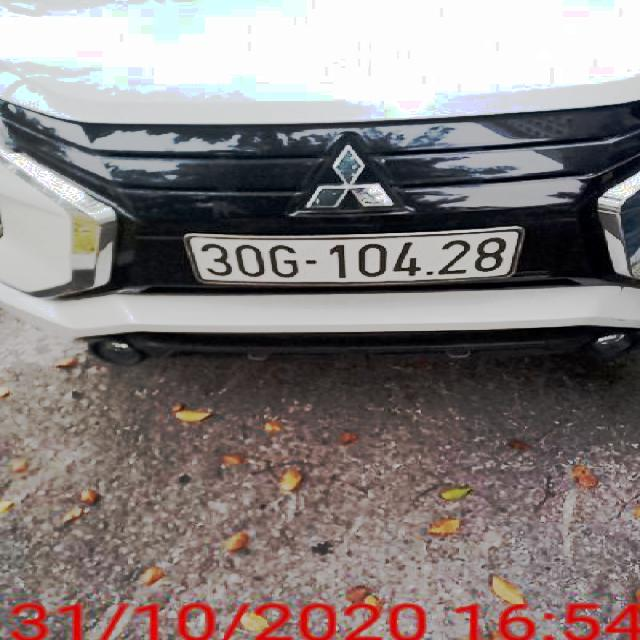license_plate: (188, 230, 524, 282)
